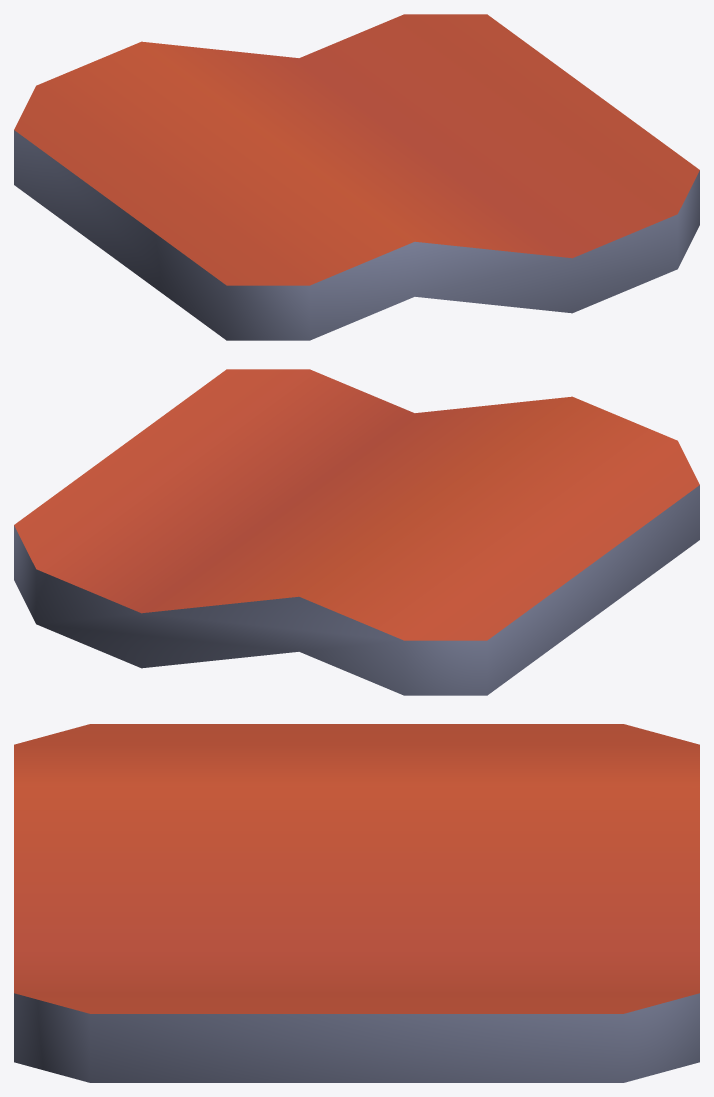
Rendered from debris-plate-b.glb.
3 views of the same model, one above another, from view 1: azimuth 30°, elevation 25°; view 2: azimuth 150°, elevation 25°; view 3: azimuth 270°, elevation 25° (orthographic). The views are drawn at different scales.
Visible parts, largest first — view 1: debris-plate-b; view 2: debris-plate-b; view 3: debris-plate-b.
Part boxes in pixels (<box>): debris-plate-b: <box>14,14,699,340</box>; debris-plate-b: <box>14,369,699,695</box>; debris-plate-b: <box>14,724,699,1082</box>.
Size of the model in its own units: 0.9 by 0.2 by 0.9.
